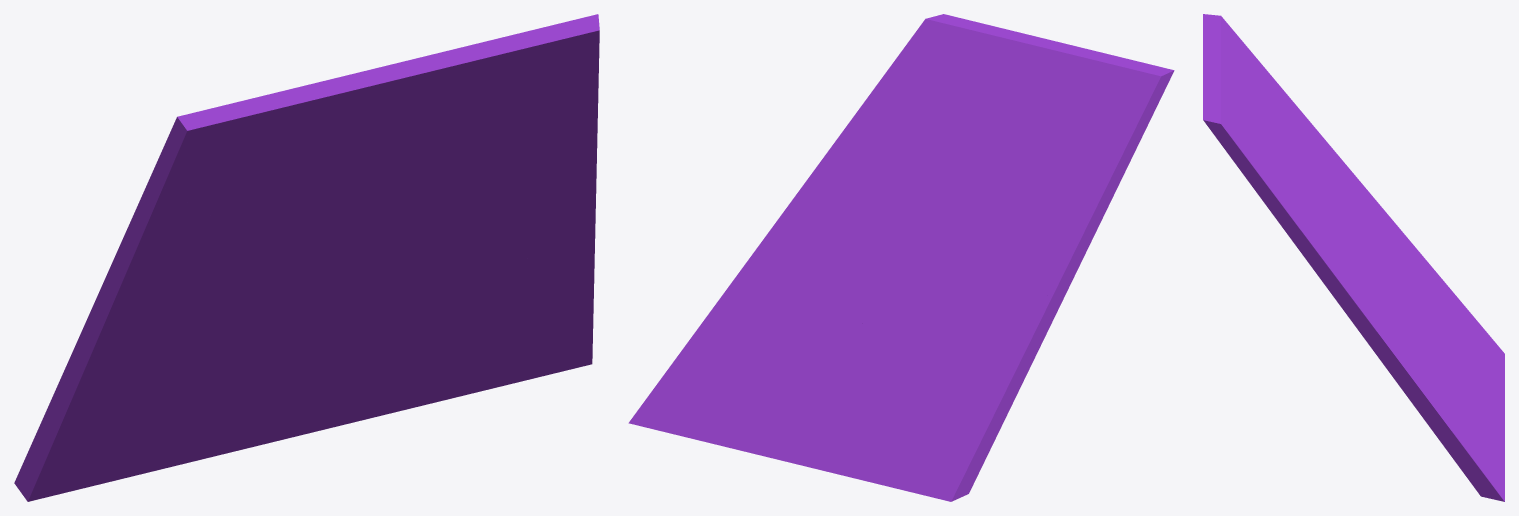
The model's file is Window_108_chunks.fbx.
The picture shows the model from 3 angles, left to right: view 1: azimuth 30°, elevation 25°; view 2: azimuth 150°, elevation 25°; view 3: azimuth 270°, elevation 25°; orthographic projection. The views are drawn at different scales.
Visible parts, largest first — view 1: Window_108_0, Window_108_5, Window_108_2, Window_108_10, Window_108_6, Window_108_11, Window_108_7, Window_108_3, Window_108_9, Window_108_12, Window_108_1, Window_108_14 (+3 smaller); view 2: Window_108_10, Window_108_6, Window_108_11, Window_108_5, Window_108_2, Window_108_0, Window_108_12, Window_108_14, Window_108_7, Window_108_9, Window_108_3, Window_108_15; view 3: Window_108_10, Window_108_11, Window_108_2, Window_108_6, Window_108_0, Window_108_5, Window_108_12, Window_108_7, Window_108_14, Window_108_9, Window_108_3, Window_108_15.
Part boxes in pixels (x1=…): Window_108_0: x1=163, y1=51, x2=470, y2=220; Window_108_5: x1=14, y1=304, x2=236, y2=501; Window_108_2: x1=388, y1=14, x2=599, y2=184; Window_108_10: x1=422, y1=222, x2=595, y2=405; Window_108_6: x1=129, y1=340, x2=393, y2=477; Window_108_11: x1=360, y1=117, x2=597, y2=288; Window_108_7: x1=98, y1=262, x2=366, y2=351; Window_108_3: x1=219, y1=174, x2=401, y2=269; Window_108_9: x1=366, y1=281, x2=463, y2=412; Window_108_12: x1=94, y1=238, x2=298, y2=317; Window_108_1: x1=344, y1=152, x2=485, y2=236; Window_108_14: x1=116, y1=114, x2=223, y2=277; Window_108_10: x1=628, y1=218, x2=819, y2=449; Window_108_6: x1=751, y1=313, x2=930, y2=492; Window_108_11: x1=779, y1=99, x2=919, y2=295; Window_108_5: x1=912, y1=288, x2=1068, y2=501; Window_108_2: x1=867, y1=14, x2=1015, y2=184; Window_108_0: x1=997, y1=31, x2=1174, y2=151; Window_108_12: x1=919, y1=190, x2=1088, y2=293; Window_108_14: x1=1045, y1=75, x2=1162, y2=241; Window_108_7: x1=874, y1=257, x2=1070, y2=347; Window_108_9: x1=738, y1=290, x2=890, y2=452; Window_108_3: x1=902, y1=127, x2=1035, y2=226; Window_108_15: x1=927, y1=133, x2=1064, y2=222; Window_108_10: x1=1358, y1=310, x2=1504, y2=501; Window_108_11: x1=1275, y1=198, x2=1400, y2=325; Window_108_2: x1=1203, y1=84, x2=1322, y2=221; Window_108_6: x1=1403, y1=288, x2=1504, y2=444; Window_108_0: x1=1203, y1=14, x2=1283, y2=136; Window_108_5: x1=1366, y1=189, x2=1504, y2=371; Window_108_12: x1=1306, y1=141, x2=1365, y2=247; Window_108_7: x1=1364, y1=189, x2=1415, y2=301; Window_108_14: x1=1219, y1=15, x2=1326, y2=141; Window_108_9: x1=1388, y1=282, x2=1504, y2=450; Window_108_3: x1=1275, y1=127, x2=1345, y2=232; Window_108_15: x1=1269, y1=101, x2=1341, y2=225.
Size of the model in its own units: 1159 by 947 by 833.
